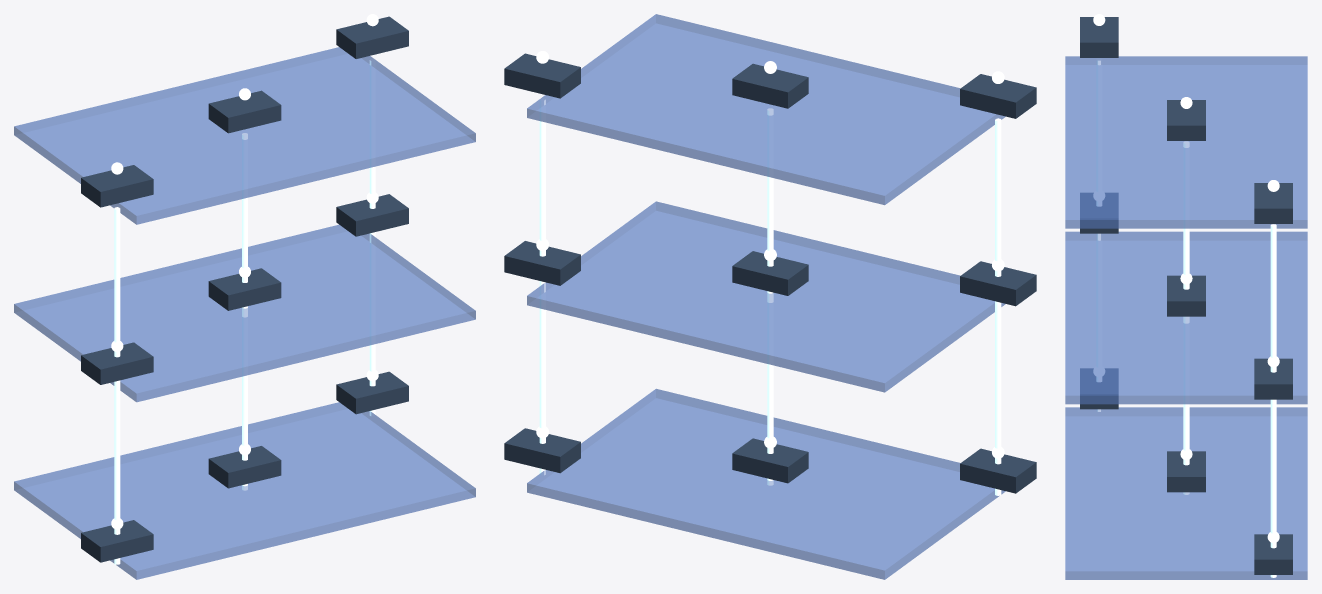
The model's file is architecture.glb.
3 renders of one model, left to right at view 1: azimuth 30°, elevation 25°; view 2: azimuth 150°, elevation 25°; view 3: azimuth 270°, elevation 25°, orthographic. The views are drawn at different scales.
Parts seen in each view (by area): view 1: Floor2, Floor0, Floor1, Block21, Block22, Block20, Block01, Block11, Block02, Block00, Block10, Block12 (+6 smaller); view 2: Floor2, Floor0, Floor1, Block22, Block21, Block20, Block01, Block02, Block11, Block00, Block10, Block12 (+6 smaller); view 3: Floor2, Floor1, Floor0, Block01, Block12, Block11, Block20, Block22, Block21, Block00, Block02, Block10 (+6 smaller).
Boxes of the visible parts, x1=… form: Floor2: x1=14, y1=47, x2=475, y2=224; Floor0: x1=14, y1=402, x2=475, y2=579; Floor1: x1=14, y1=224, x2=475, y2=402; Block21: x1=208, y1=90, x2=281, y2=133; Block22: x1=336, y1=16, x2=408, y2=58; Block20: x1=81, y1=165, x2=153, y2=207; Block01: x1=208, y1=446, x2=281, y2=488; Block11: x1=208, y1=268, x2=281, y2=310; Block02: x1=336, y1=371, x2=408, y2=414; Block00: x1=81, y1=520, x2=153, y2=562; Block10: x1=81, y1=342, x2=153, y2=384; Block12: x1=336, y1=194, x2=408, y2=236; Floor2: x1=527, y1=14, x2=1005, y2=205; Floor0: x1=527, y1=388, x2=1005, y2=579; Floor1: x1=527, y1=201, x2=1005, y2=392; Block22: x1=504, y1=53, x2=580, y2=98; Block21: x1=732, y1=63, x2=808, y2=108; Block20: x1=960, y1=74, x2=1036, y2=118; Block01: x1=732, y1=438, x2=808, y2=483; Block02: x1=504, y1=428, x2=580, y2=473; Block11: x1=732, y1=251, x2=808, y2=295; Block00: x1=960, y1=448, x2=1036, y2=493; Block10: x1=960, y1=261, x2=1036, y2=306; Block12: x1=504, y1=241, x2=580, y2=285; Floor2: x1=1065, y1=56, x2=1307, y2=228; Floor1: x1=1065, y1=231, x2=1307, y2=404; Floor0: x1=1065, y1=407, x2=1307, y2=579; Block01: x1=1167, y1=451, x2=1205, y2=492; Block12: x1=1254, y1=358, x2=1292, y2=399; Block11: x1=1167, y1=275, x2=1205, y2=316; Block20: x1=1080, y1=17, x2=1118, y2=57; Block22: x1=1254, y1=183, x2=1292, y2=223; Block21: x1=1167, y1=100, x2=1205, y2=140; Block00: x1=1080, y1=368, x2=1118, y2=409; Block02: x1=1254, y1=534, x2=1292, y2=574; Block10: x1=1080, y1=193, x2=1118, y2=233.
Size of the model in its own units: 3.74 by 3.65 by 2.
